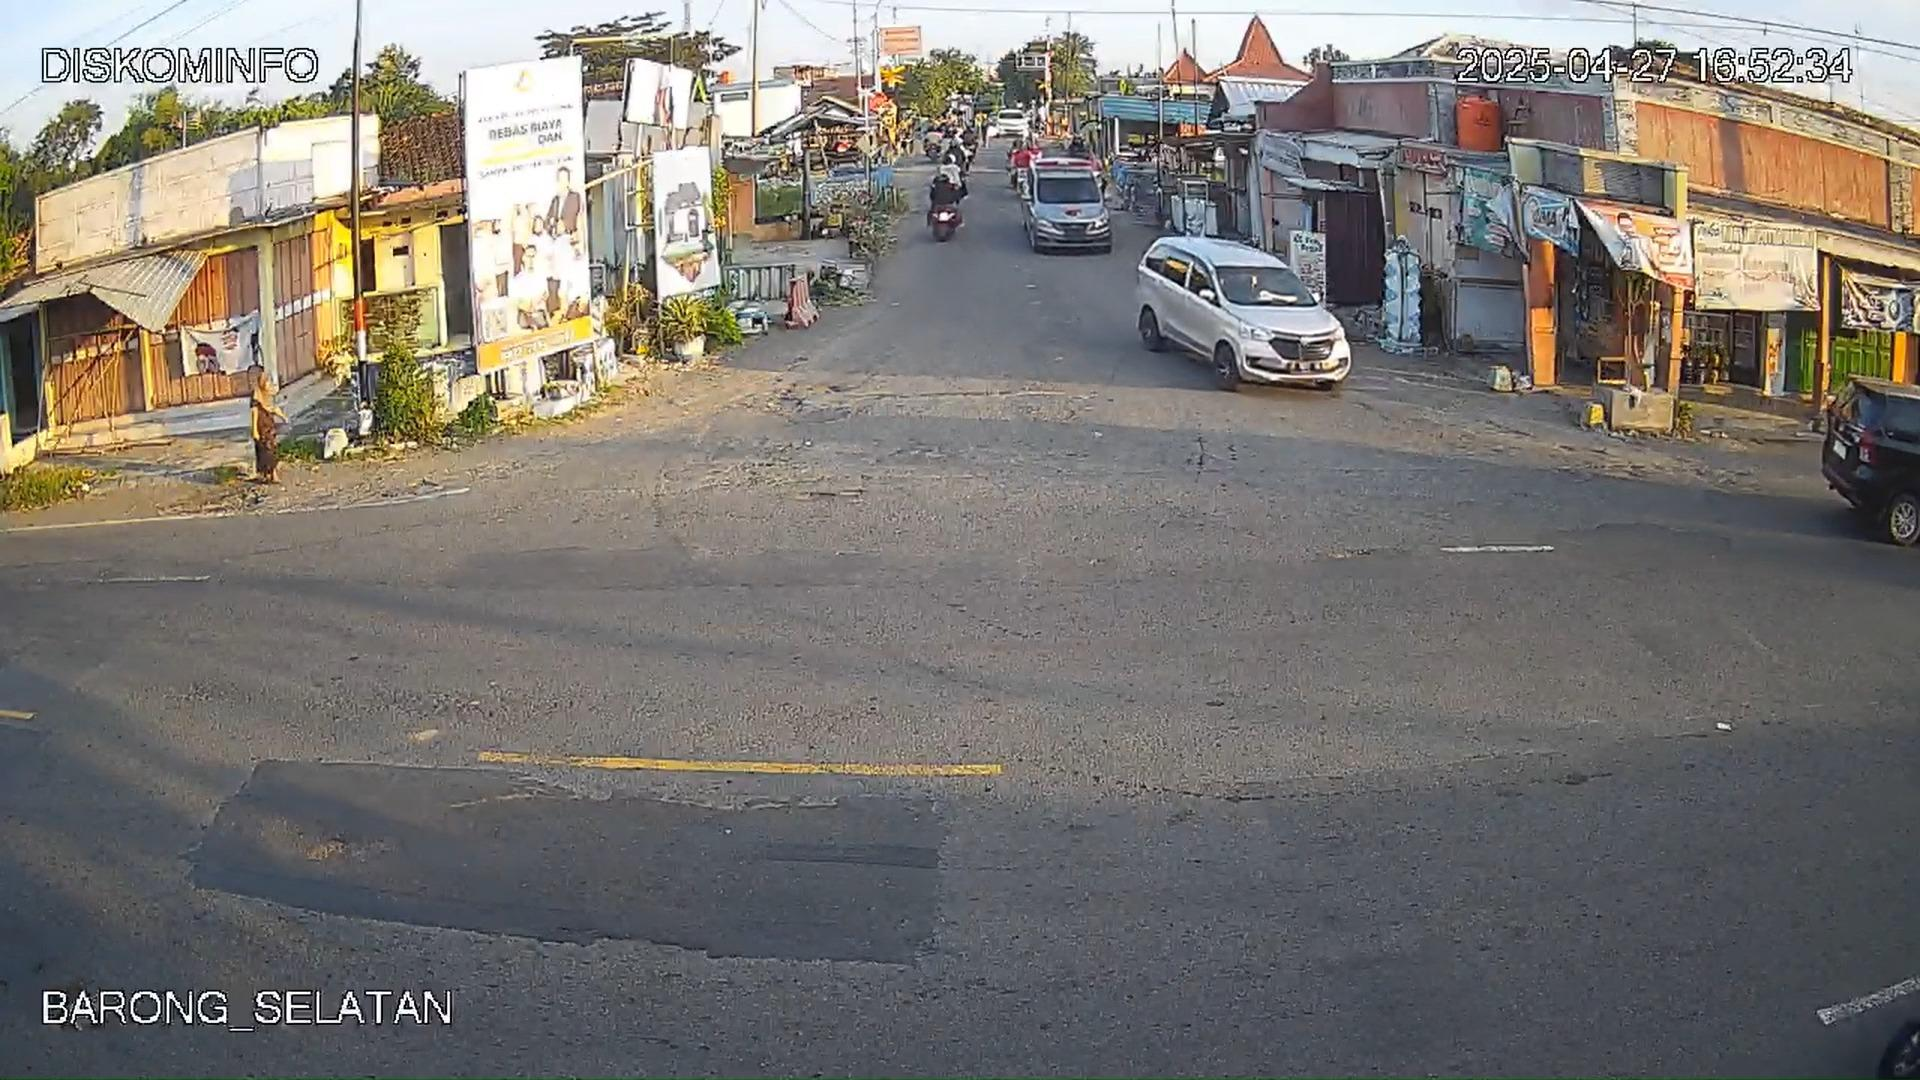mobil: (1138, 233, 1346, 392)
